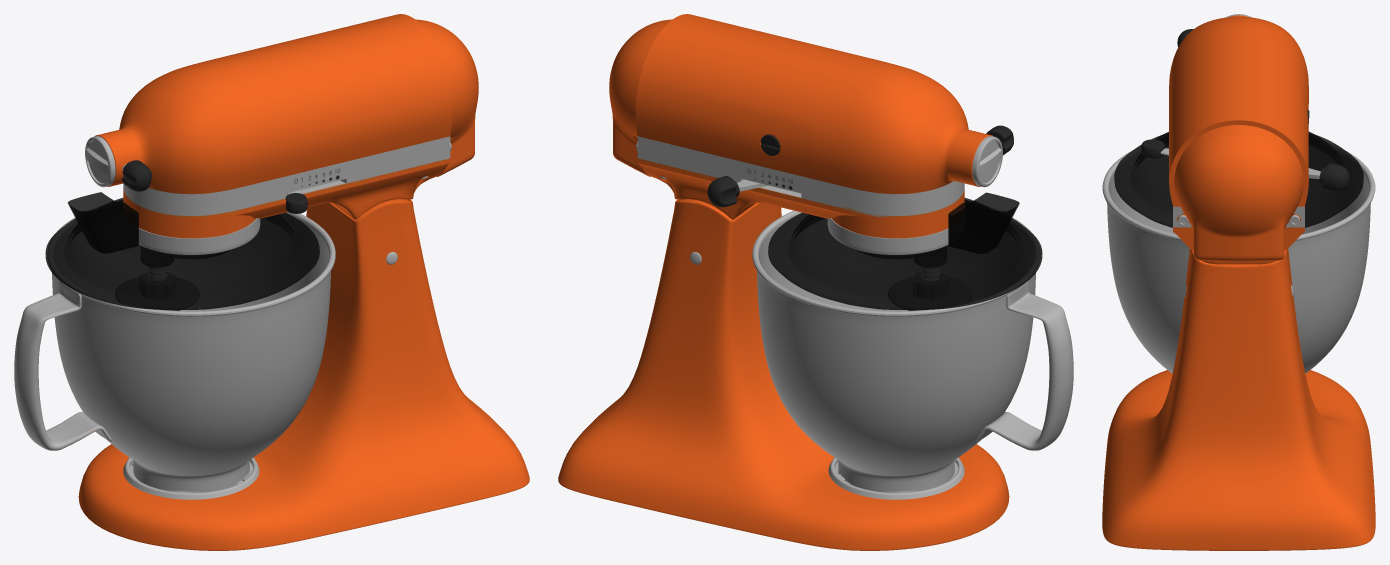
The model's file is mezclar.glb.
3 views of the same model, side by side, from view 1: azimuth 30°, elevation 25°; view 2: azimuth 150°, elevation 25°; view 3: azimuth 270°, elevation 25° (orthographic). The views are drawn at different scales.
Parts seen in each view (by area): view 1: ASSET_0, ASSET.001_2; view 2: ASSET_0, ASSET.001_2; view 3: ASSET_0, ASSET.001_2.
Boxes of the visible parts, x1,y1,x2,y2 form: ASSET_0: [14, 14, 529, 550]; ASSET.001_2: [45, 192, 319, 309]; ASSET_0: [558, 14, 1073, 550]; ASSET.001_2: [768, 192, 1042, 309]; ASSET_0: [1102, 14, 1375, 550]; ASSET.001_2: [1114, 131, 1363, 227].
Bounding box in the file's own units: 0.4291 × 0.38 × 0.234.
Materials: 3 (2 with a texture image).
